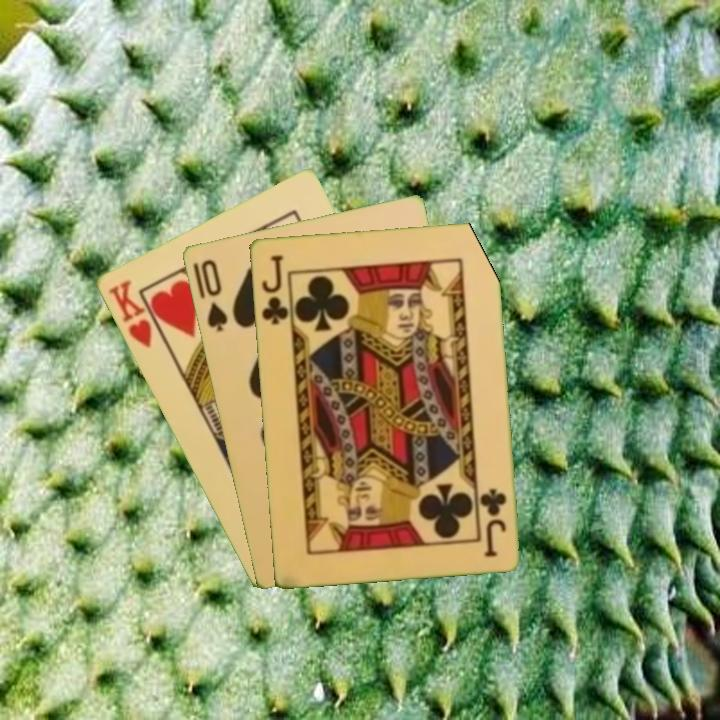10s: (197, 255, 230, 334)
Jc: (257, 250, 291, 327), (477, 484, 509, 560)
Kh: (103, 276, 168, 351)
